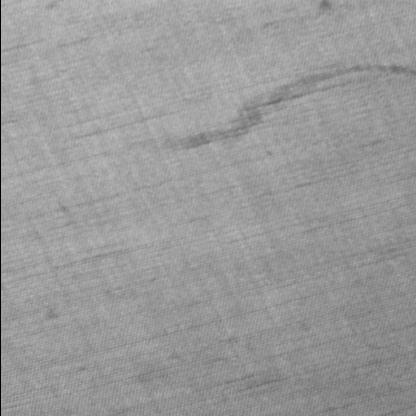oil spot: (155, 61, 413, 153)
